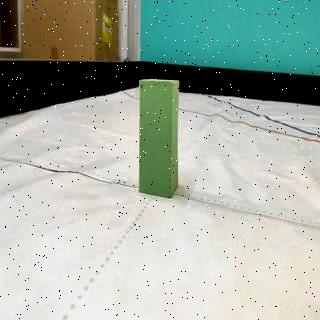greenbox: (140, 79, 178, 201)
